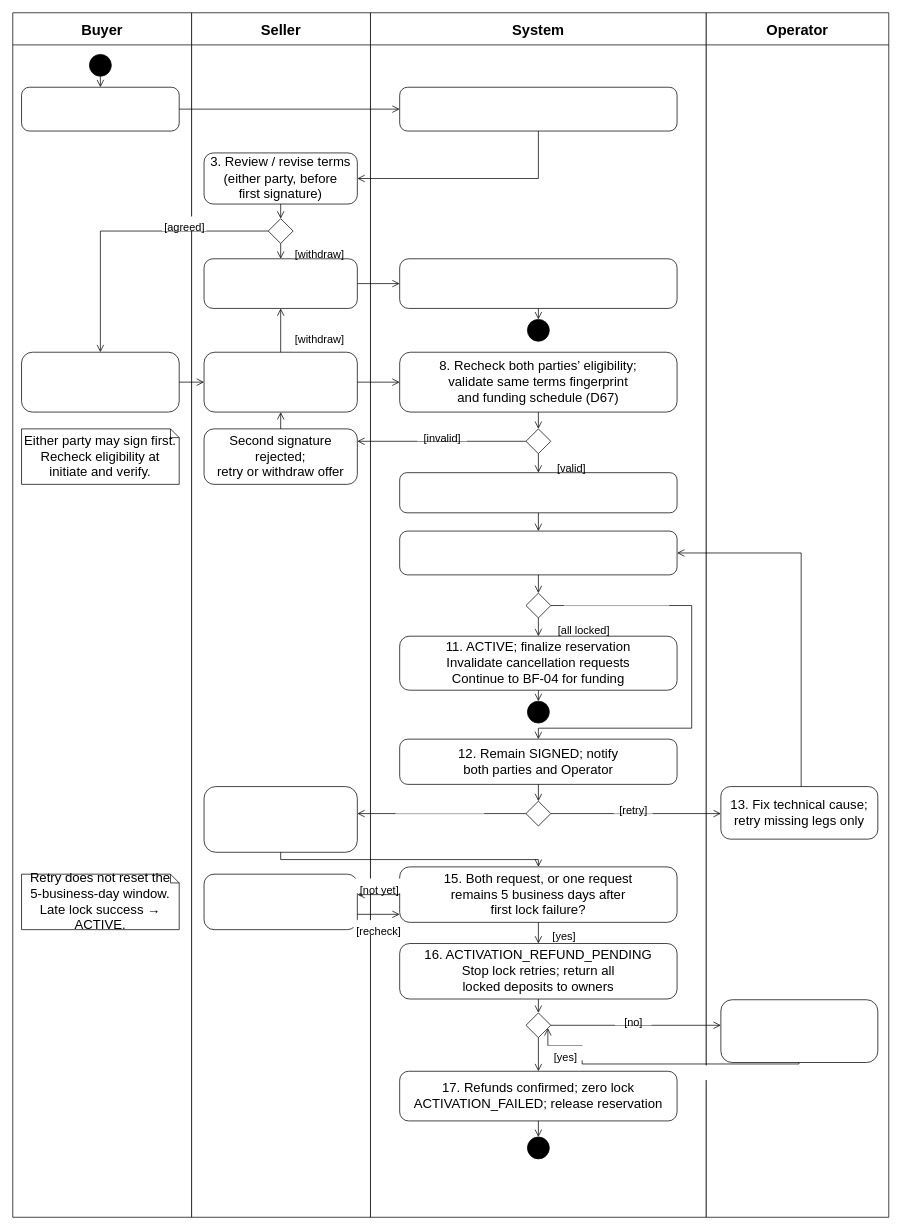
This 902x1230 diagram has some shape labels left out. Each missing label, with the centre of its shape:
"1. Create offer on eligible listing" goes at pixel 100 109.
"10. Lock required deposits with automatic retries" goes at pixel 538 552.
"14. Either party requests cancellation: consent, step-up and email OTP" goes at pixel 280 819.
"2. Validate eligibility and terms; reserve listing quantity" goes at pixel 538 109.
"4. Withdraw offer (either party before second signature)" goes at pixel 280 283.
"5. WITHDRAWN; release reservation and notify other party" goes at pixel 538 283.
"6. First party signs Consent + step-up + email OTP" goes at pixel 100 381.
"7. Other party attempts same terms signature Consent + step-up + OTP" goes at pixel 280 381.
"9. Record second signature (SIGNED)" goes at pixel 538 492.
"[await confirmation]" goes at pixel 735 1072.
"[cancel request]" goes at pixel 439 806.
"[retries exhausted]" goes at pixel 616 598.
"Receive refund failure alert; contract remains pending" goes at pixel 799 1031.
"Wait; either party may withdraw own request before refunds begin" goes at pixel 280 901.
